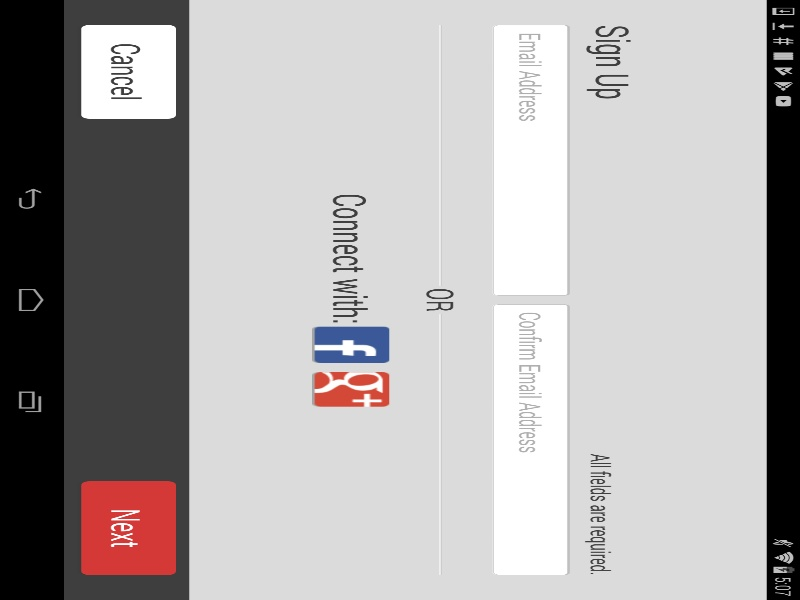Button: (53, 292, 253, 338), (696, 192, 774, 228)
Input: (53, 107, 630, 144)
